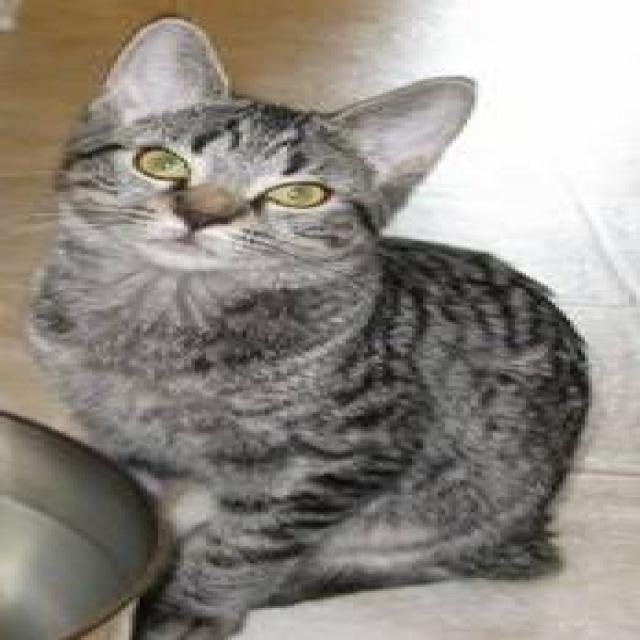cat: (22, 15, 592, 638)
